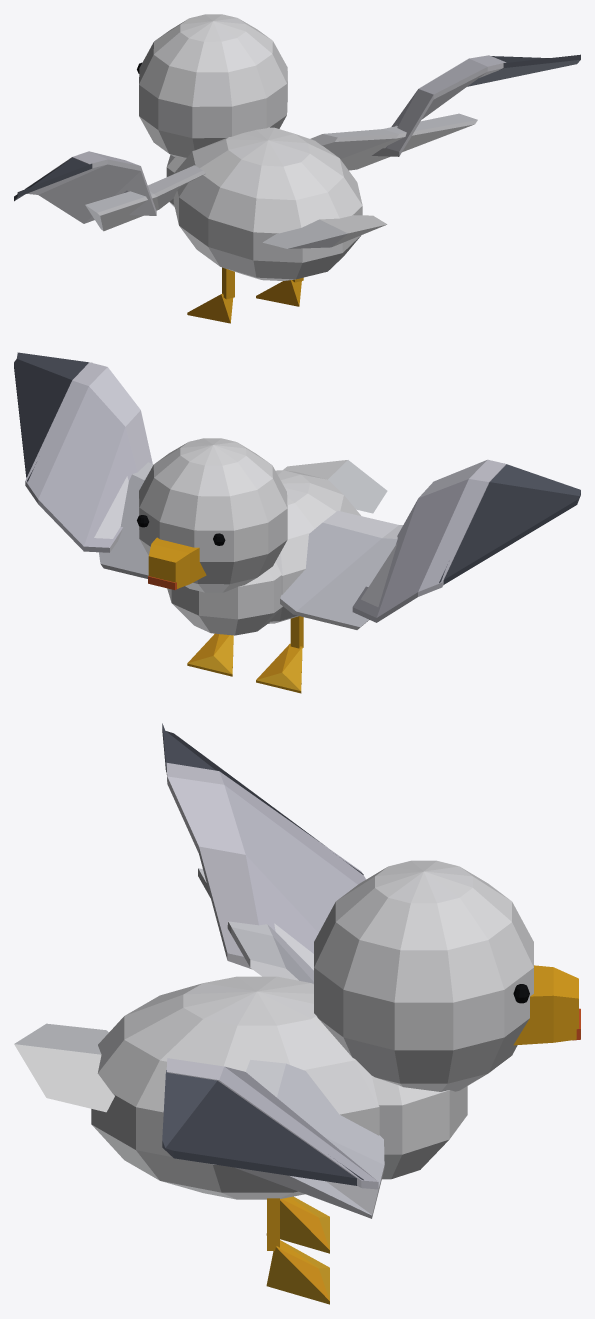
Rendered from hero_gull_parts.glb.
3 views of the same model, one above another, from view 1: azimuth 30°, elevation 25°; view 2: azimuth 150°, elevation 25°; view 3: azimuth 270°, elevation 25° (orthographic). The views are drawn at different scales.
Visible parts, largest first — view 1: Body, Head, ForeL, UpperR, ForeR, UpperL, Tail, Legs, HandR, HandL; view 2: Head, ForeR, ForeL, UpperL, HandL, Chest, Body, HandR, Legs, UpperR, Tail; view 3: Head, Body, ForeL, HandR, UpperR, Chest, Tail, Legs, ForeR, UpperL, HandL.
Part boxes in pixels (box(x1,y1,x2,y2)): Body: box(173, 127, 362, 280); Head: box(137, 14, 287, 157); ForeL: box(25, 151, 156, 223); UpperR: box(310, 113, 477, 170); ForeR: box(372, 55, 506, 156); UpperL: box(85, 165, 205, 231); Tail: box(263, 215, 387, 248); Legs: box(187, 267, 303, 323); HandR: box(467, 54, 580, 86); HandL: box(14, 157, 92, 201); Head: box(137, 438, 287, 592); ForeR: box(25, 362, 152, 552); ForeL: box(352, 459, 506, 622); UpperL: box(280, 510, 402, 629); HandL: box(439, 464, 580, 584); Chest: box(167, 562, 282, 635); Body: box(268, 470, 360, 623); HandR: box(14, 352, 88, 482); Legs: box(187, 616, 303, 693); UpperR: box(99, 462, 152, 578); Tail: box(283, 460, 387, 513); Head: box(314, 860, 580, 1091); Body: box(91, 976, 379, 1199); ForeL: box(166, 763, 365, 970); HandR: box(162, 1070, 363, 1185); UpperR: box(235, 1060, 384, 1218); Chest: box(372, 1076, 467, 1179); Tail: box(14, 1023, 114, 1112); Legs: box(266, 1196, 329, 1304); ForeR: box(166, 1058, 378, 1214); UpperL: box(198, 868, 313, 983); HandL: box(162, 723, 363, 874).
Size of the model in its own units: 2.13 by 0.931 by 1.22.
